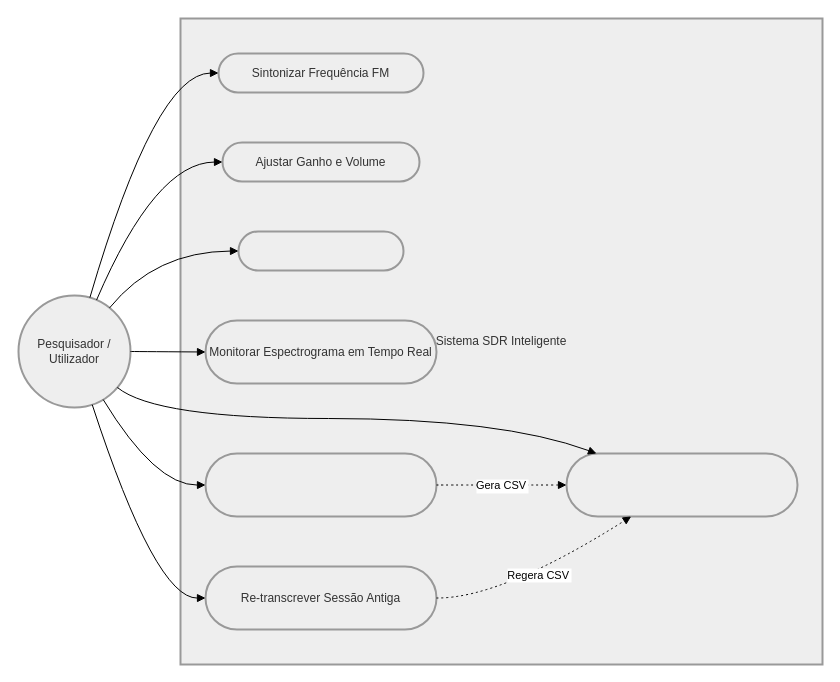
This 840x682 diagram has some shape labels left out. Here are the shapes that lost their labels. From the top down, the centre of each, then its label:
At point 320,250: "Ouvir Áudio ao Vivo".
At point 320,484: "Gravar Sessão e Transcrever via Whisper".
At point 681,484: "Gerar Estatísticas e Gráficos NLP".
